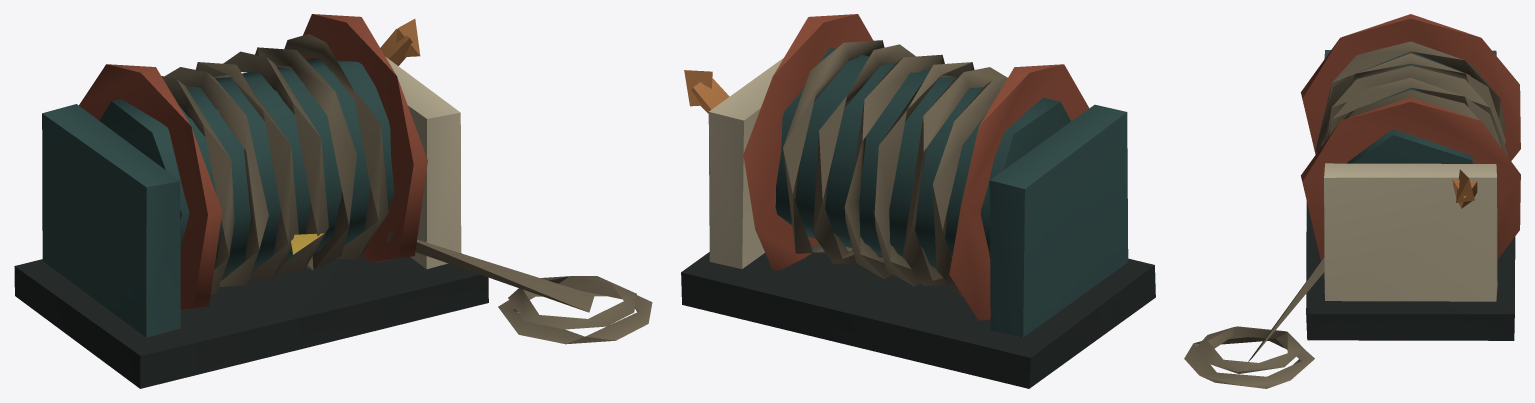
File: winch_drum_a_lod2.glb
3 renders of one model, left to right at view 1: azimuth 30°, elevation 25°; view 2: azimuth 150°, elevation 25°; view 3: azimuth 270°, elevation 25°, orthographic. The views are drawn at different scales.
Visible parts, largest first — view 1: Surface.001; view 2: Surface.001; view 3: Surface.001.
Part boxes in pixels (left/top/right/bottom): Surface.001: left=14, top=14, right=652, bottom=388; Surface.001: left=681, top=14, right=1155, bottom=388; Surface.001: left=1184, top=14, right=1520, bottom=388.
Size of the model in its own units: 2.5 by 1.32 by 1.88.
